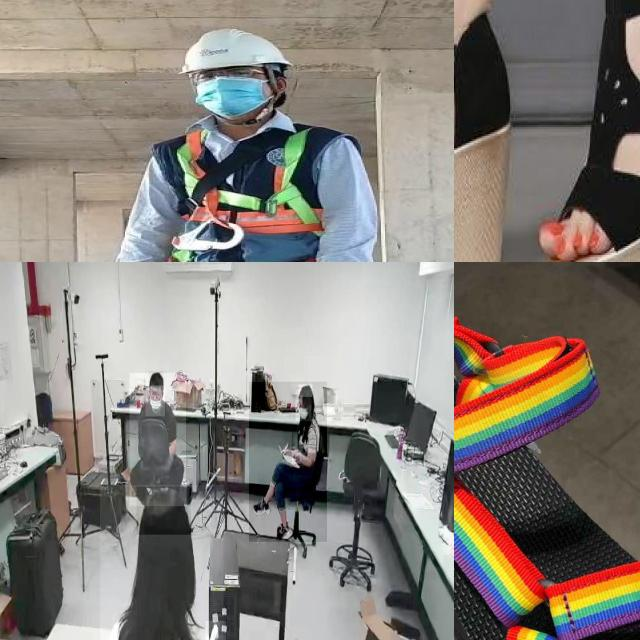Harness: (163, 132, 347, 262)
Sandals: (454, 289, 640, 640), (539, 0, 640, 262), (454, 0, 526, 262)
face_mask: (145, 386, 165, 416), (296, 390, 312, 421)
hand_glove: (205, 620, 226, 640)
hand_noglove: (292, 450, 302, 464)
head_nohelmet: (136, 486, 192, 536), (148, 371, 164, 387), (299, 384, 313, 398)
person: (100, 485, 224, 640), (249, 382, 327, 542), (130, 373, 187, 506)
shoes: (250, 491, 272, 517)
